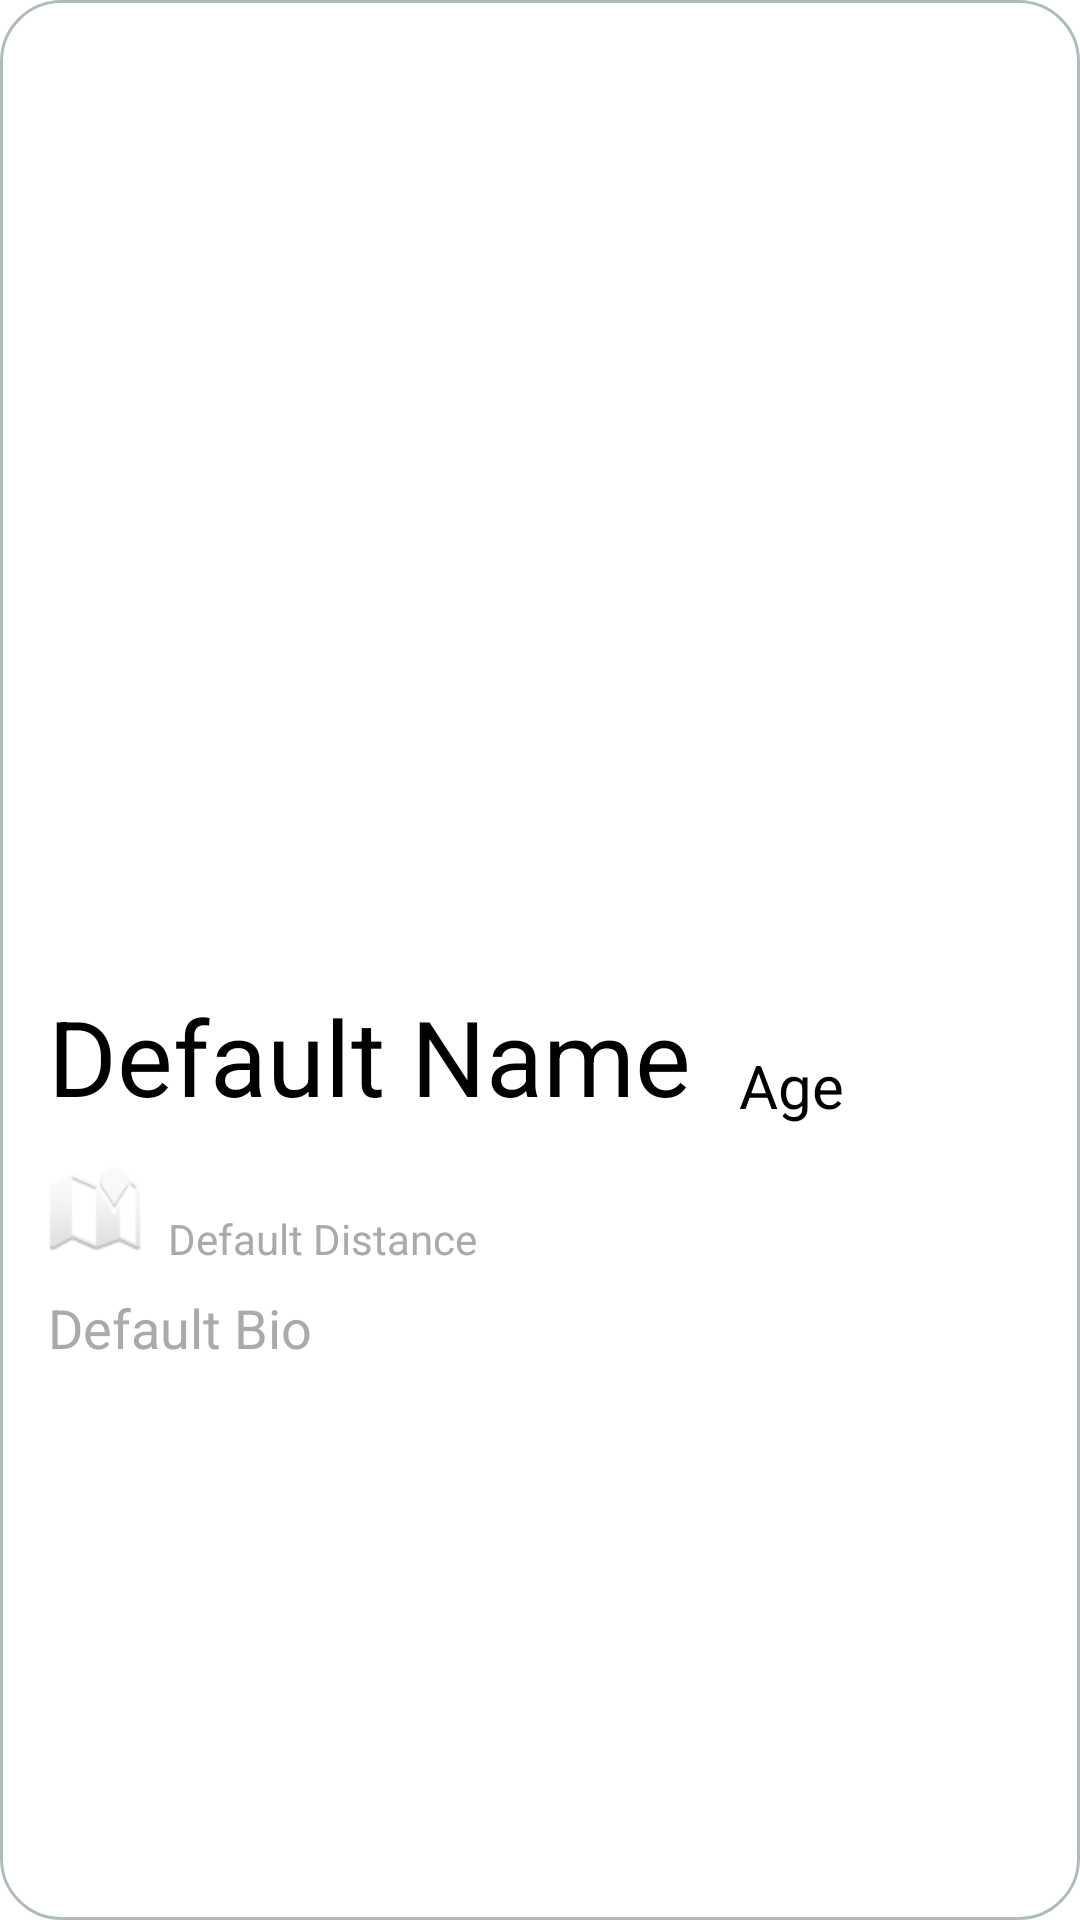

Icon click points for this 1080 x 1920 phone screenshot, format (x=x, y=y):
map: (x=95, y=1213)
